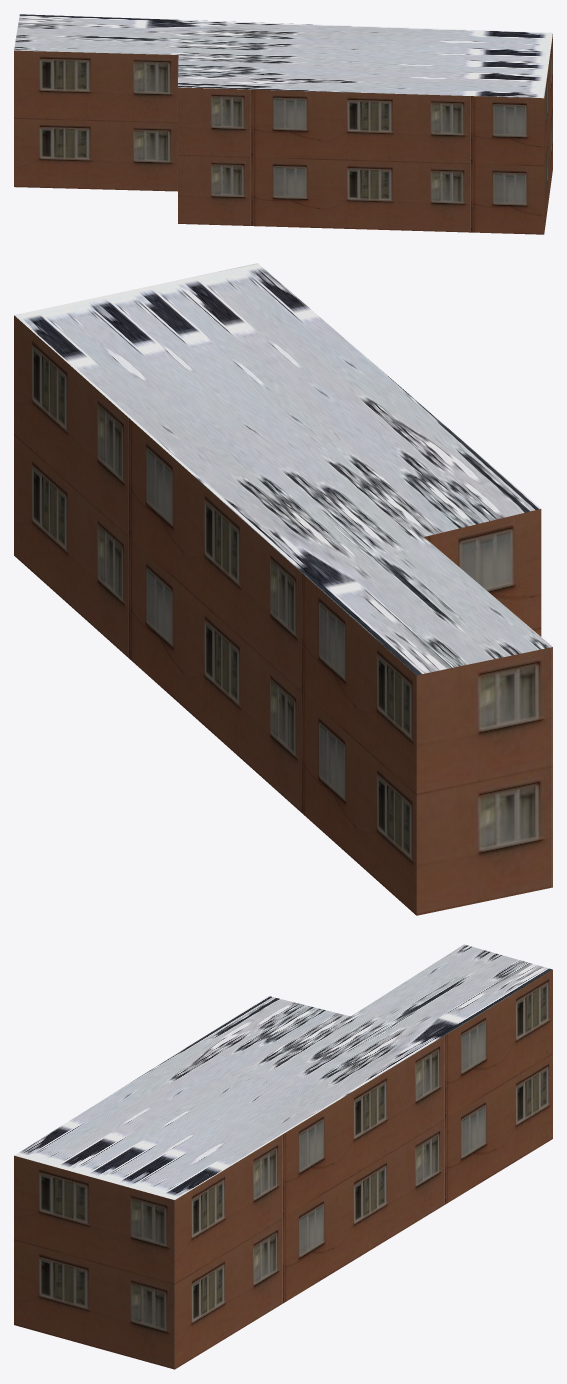
File: ResTex__2058.fbx
The picture shows the model from 3 angles, top to bottom: view 1: azimuth 30°, elevation 25°; view 2: azimuth 150°, elevation 25°; view 3: azimuth 270°, elevation 25°; orthographic projection. The views are drawn at different scales.
Parts seen in each view (by area): view 1: CityEngineMaterial_20_m, CityEngineMaterial_2_m; view 2: CityEngineMaterial_20_m, CityEngineMaterial_2_m; view 3: CityEngineMaterial_20_m, CityEngineMaterial_2_m.
Boxes of the visible parts, x1,y1,x2,y2 form: CityEngineMaterial_20_m: (14, 34, 552, 234); CityEngineMaterial_2_m: (14, 14, 552, 98); CityEngineMaterial_20_m: (14, 315, 552, 915); CityEngineMaterial_2_m: (14, 263, 552, 675); CityEngineMaterial_20_m: (14, 970, 552, 1369); CityEngineMaterial_2_m: (14, 944, 552, 1199).
Bounding box in the file's own units: 19.43 × 6 × 17.3.
2 materials, 2 textured.
